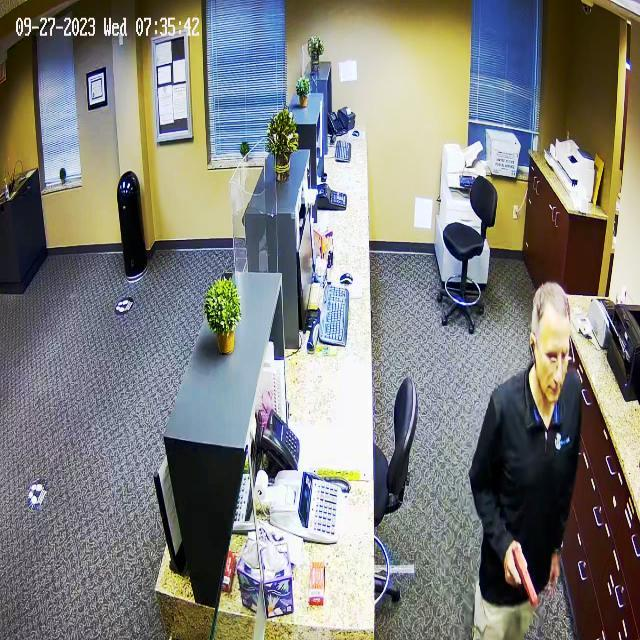Gun: (502, 542, 544, 624)
